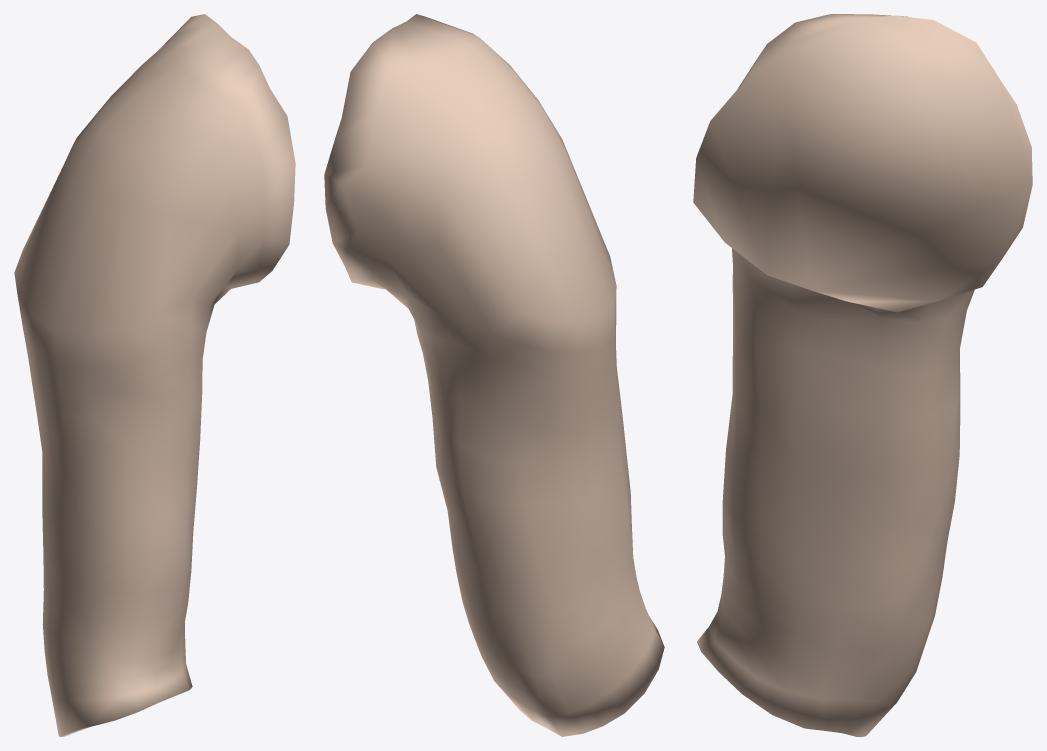
Rendered from left_upper_arm.dae.
The picture shows the model from 3 angles, left to right: view 1: azimuth 30°, elevation 25°; view 2: azimuth 150°, elevation 25°; view 3: azimuth 270°, elevation 25°; orthographic projection. The views are drawn at different scales.
Parts seen in each view (by area): view 1: left-upper-arm; view 2: left-upper-arm; view 3: left-upper-arm.
Part boxes in pixels (left/top/right/bottom): left-upper-arm: left=14, top=14, right=295, bottom=736; left-upper-arm: left=324, top=14, right=664, bottom=736; left-upper-arm: left=693, top=14, right=1032, bottom=736.
Size of the model in its own units: 0.1078 by 0.1232 by 0.3233.
